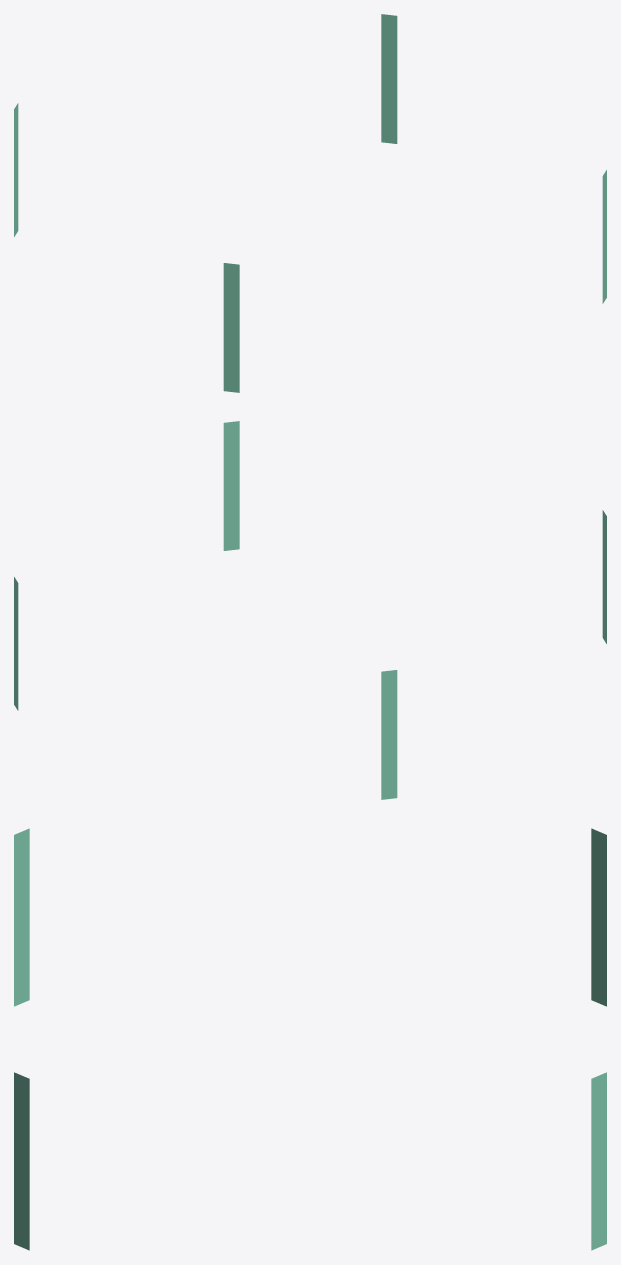
Rendered from cluster_25.fbx.
3 views of the same model, one above another, from view 1: azimuth 30°, elevation 25°; view 2: azimuth 150°, elevation 25°; view 3: azimuth 270°, elevation 25° (orthographic). The views are drawn at different scales.
Parts seen in each view (by area): view 1: cluster_25; view 2: cluster_25; view 3: cluster_25.
Boxes of the visible parts, bbox=[...] form: cluster_25: bbox=[14, 14, 606, 392]; cluster_25: bbox=[14, 421, 606, 799]; cluster_25: bbox=[14, 828, 606, 1250].
Size of the model in its own units: 22519 by 7200 by 22519.
